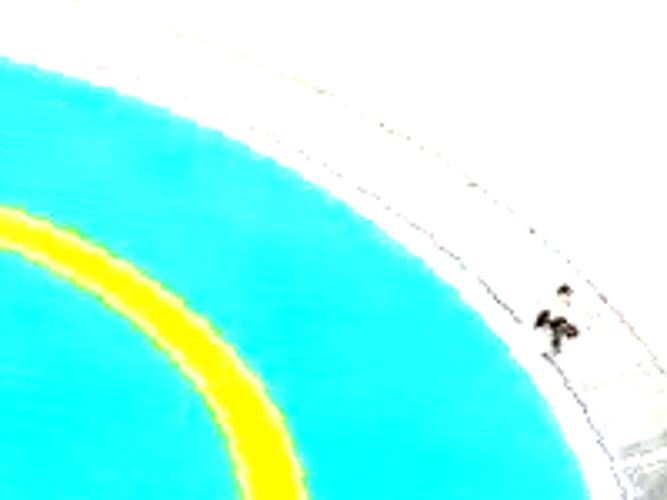Apron: (2, 193, 315, 500)
